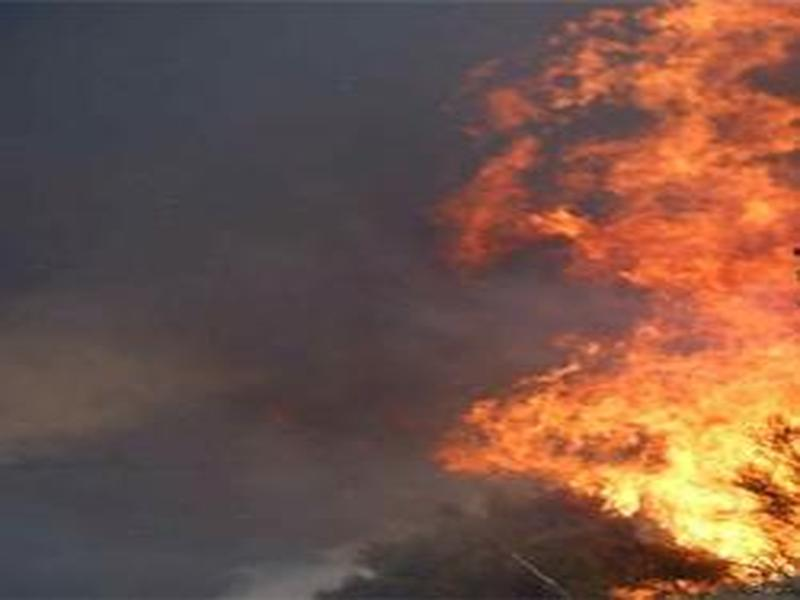FIRE: (507, 63, 796, 600)
